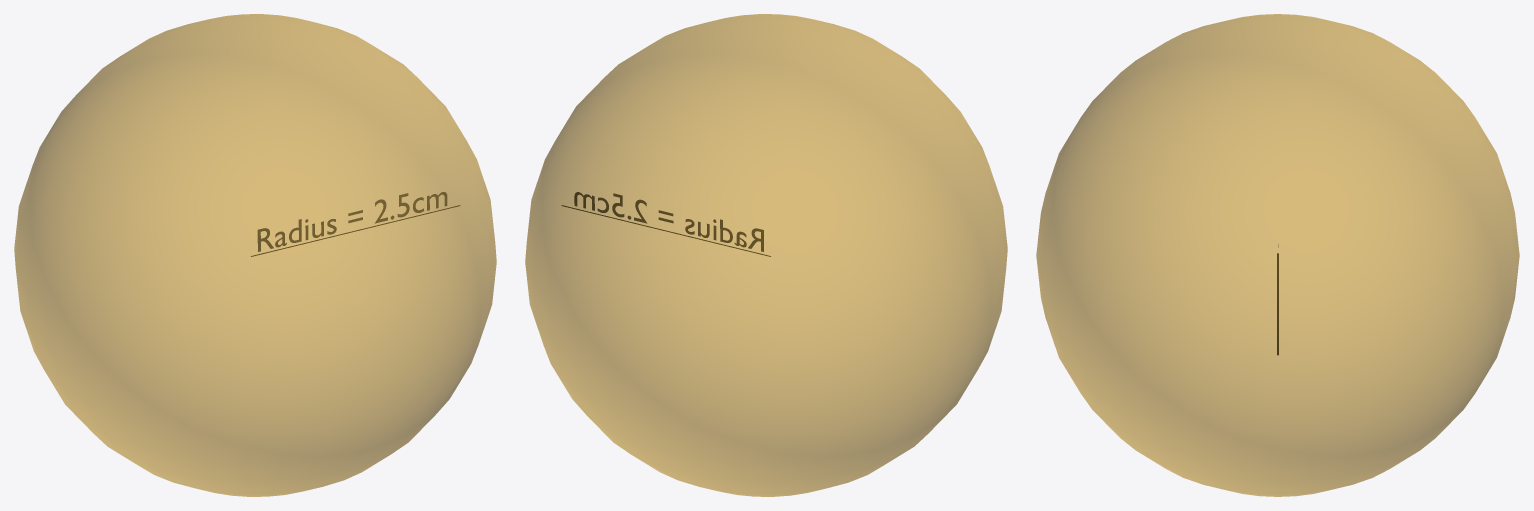
Rendered from spherer2_5.glb.
3 views of the same model, side by side, from view 1: azimuth 30°, elevation 25°; view 2: azimuth 150°, elevation 25°; view 3: azimuth 270°, elevation 25° (orthographic).
Parts seen in each view (by area): view 1: Sphere, Text; view 2: Sphere, Text; view 3: Sphere.
Part boxes in pixels (x1=…): Sphere: x1=14, y1=14, x2=496, y2=496; Text: x1=257, y1=192, x2=447, y2=251; Sphere: x1=525, y1=14, x2=1007, y2=496; Text: x1=574, y1=192, x2=763, y2=251; Sphere: x1=1036, y1=14, x2=1519, y2=496.
Bounding box in the file's own units: 0.5 × 0.5 × 0.5.
